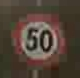limite 50: (13, 15, 64, 69)
